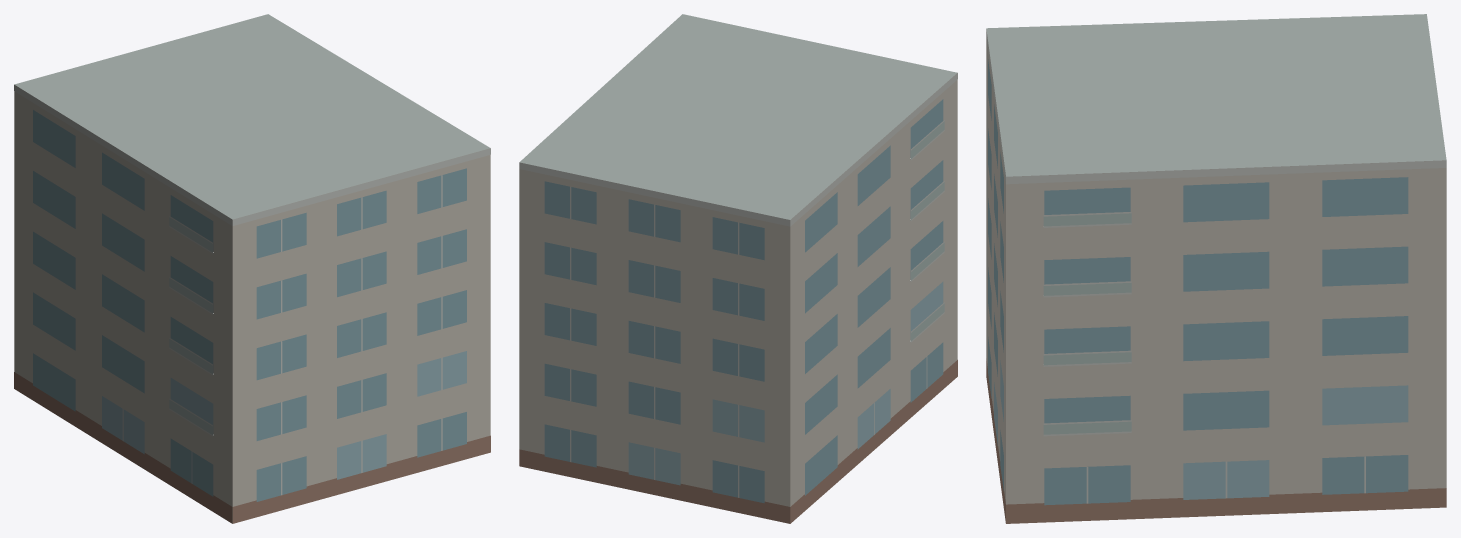
The model's file is survey-upis-32915060.glb.
The picture shows the model from 3 angles, left to right: view 1: azimuth 30°, elevation 25°; view 2: azimuth 150°, elevation 25°; view 3: azimuth 270°, elevation 25°; orthographic projection. The views are drawn at different scales.
Visible parts, largest first — view 1: survey-upis-32915060.tmp; view 2: survey-upis-32915060.tmp; view 3: survey-upis-32915060.tmp.
Part boxes in pixels (x1,y1,x2,y2): survey-upis-32915060.tmp: (14,14,490,523); survey-upis-32915060.tmp: (519,14,957,523); survey-upis-32915060.tmp: (986,14,1446,523).
Size of the model in its own units: 11.24 by 11.17 by 13.43.
